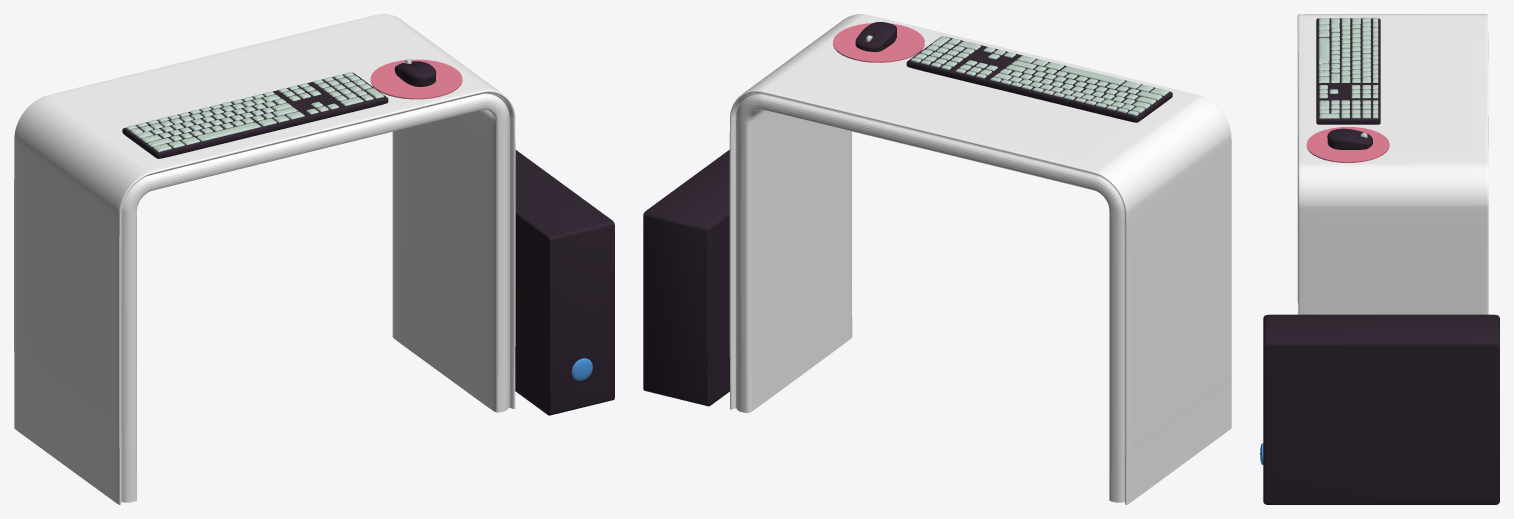
Rendered from DeskForPC.fbx.
3 views of the same model, side by side, from view 1: azimuth 30°, elevation 25°; view 2: azimuth 150°, elevation 25°; view 3: azimuth 270°, elevation 25° (orthographic). The views are drawn at different scales.
Visible parts, largest first — view 1: Table.001; view 2: Table.001; view 3: Table.001.
Boxes of the visible parts, <box> form: Table.001: <box>14,14,614,504</box>; Table.001: <box>643,14,1231,504</box>; Table.001: <box>1260,14,1499,504</box>.
Bounding box in the file's own units: 173 × 118 × 83.14.
